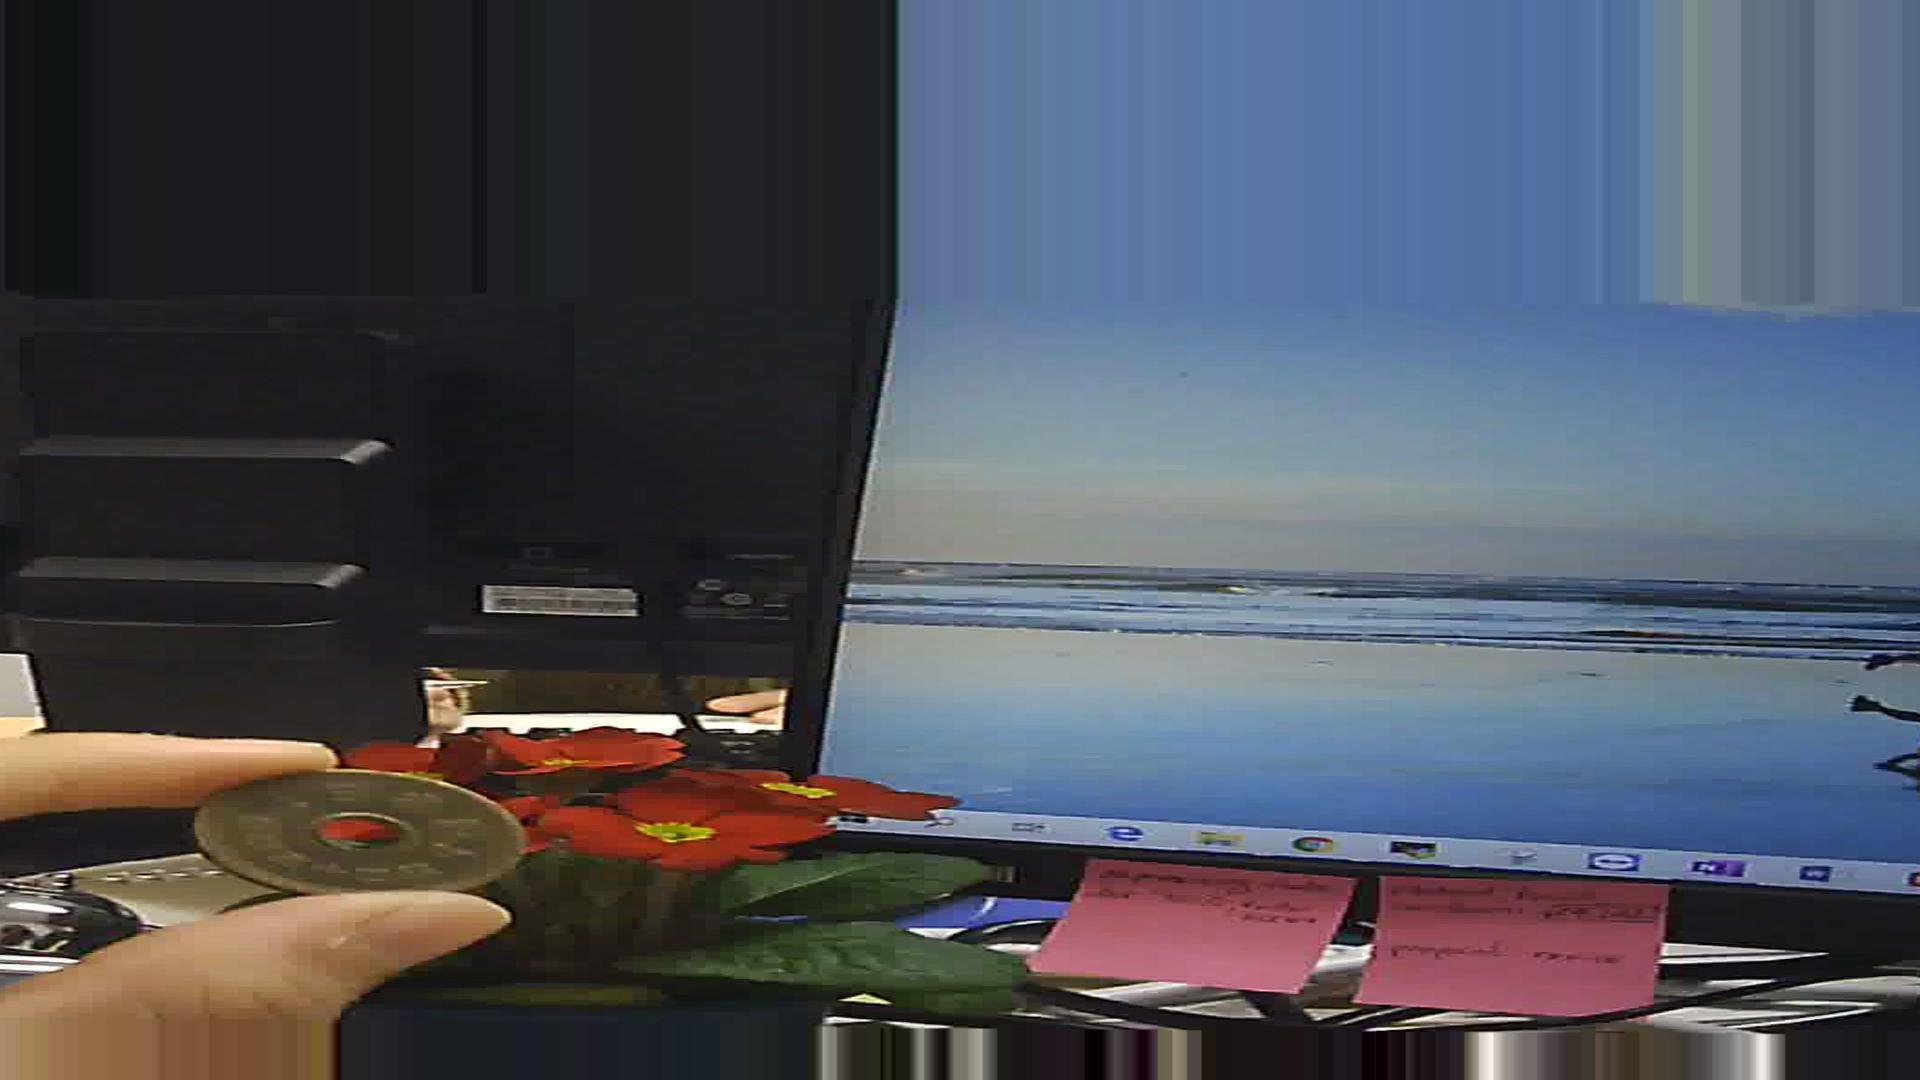5 Yen: (185, 760, 531, 899)
